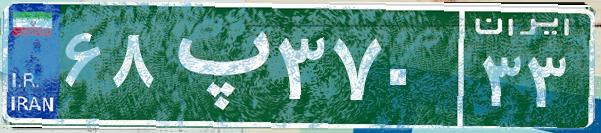0: (385, 28, 445, 110)
3: (273, 28, 330, 110), (475, 38, 525, 113), (525, 38, 570, 115)
6: (57, 26, 110, 107)
7: (330, 28, 385, 110)
8: (110, 28, 158, 105)
پ: (158, 15, 273, 115)
